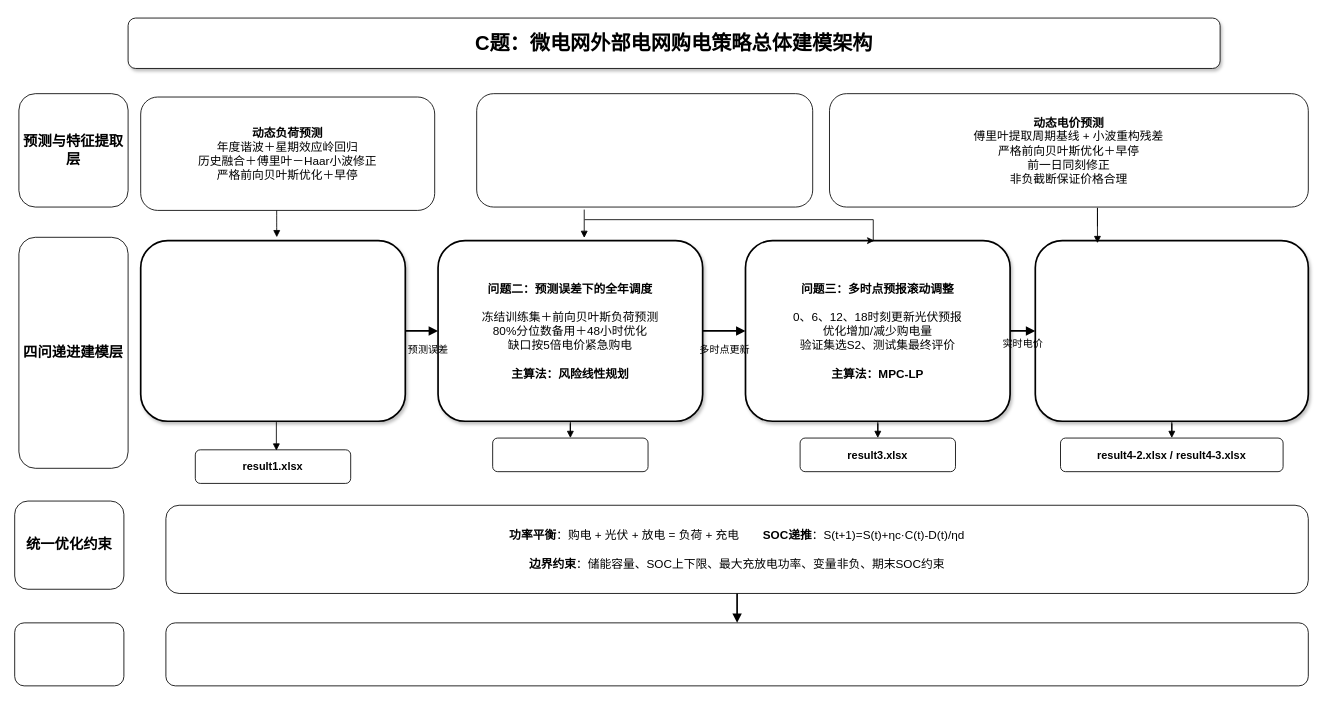
Some shapes in this 1329 by 701 pixel diagram are drawn without their labels. The shapes that lost their labels are listed below. From the top down, each one's centre as x and y in pixels, then its label:
the point at 644,150: 光伏预测 截断幂正弦函数描述日照曲线 多时点预报线性插值与在线更新
the point at 273,332: 问题一：确定性日前调度 典型日负荷与光伏拟合 每天0:00制定计划 主算法：线性规划 LP 目标：最小化单日购电费
the point at 1172,332: 问题四：实时波动电价扩展 问题4-2：动态电价 + 分位数风险LP 问题4-3：电价在线修正 + MPC 实际电价回放结算 主算法：风险LP + MPC-LP
the point at 570,454: result2.xlsx
the point at 69,654: 回放评价层
the point at 736,654: 训练、训练、训练、验证、训练、测试循环划分：训练集拟合、验证集选型、测试集最终评价 ｜ 指标：MAE、RMSE、R²、总费用、紧急购电占比、SOC可行性
